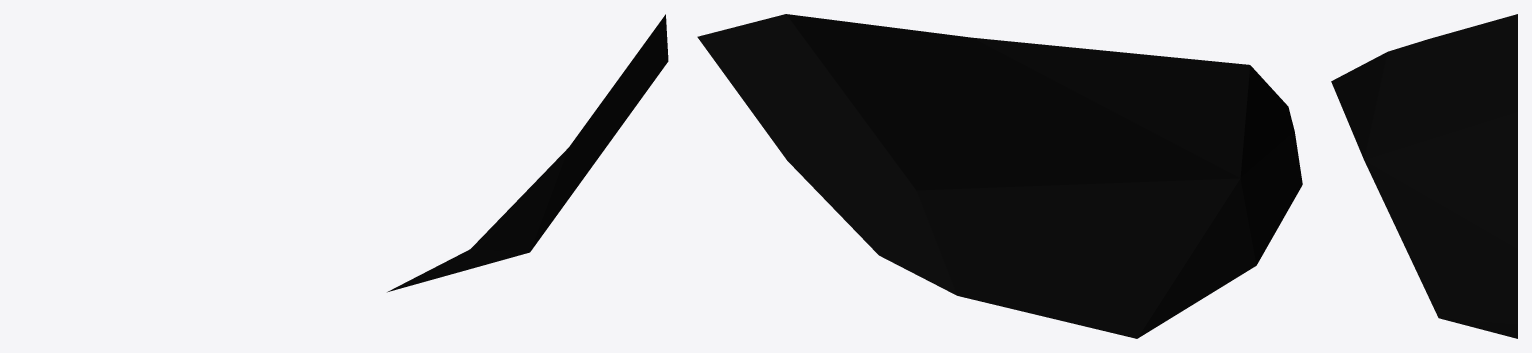
3 views of the same model, side by side, from view 1: azimuth 30°, elevation 25°; view 2: azimuth 150°, elevation 25°; view 3: azimuth 270°, elevation 25° (orthographic). The views are drawn at different scales.
Bounding box in the file's own units: 0.8223 × 0.2537 × 0.2575.
Materials: 1 (1 with a texture image).
